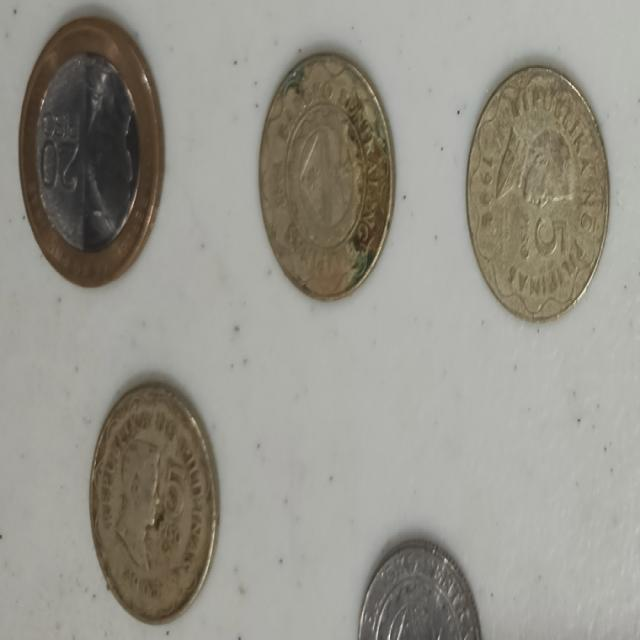1_peso: (359, 541, 481, 639)
20_peso: (19, 19, 163, 285)
5_peso: (467, 69, 608, 321), (259, 55, 392, 299), (90, 384, 219, 622)
